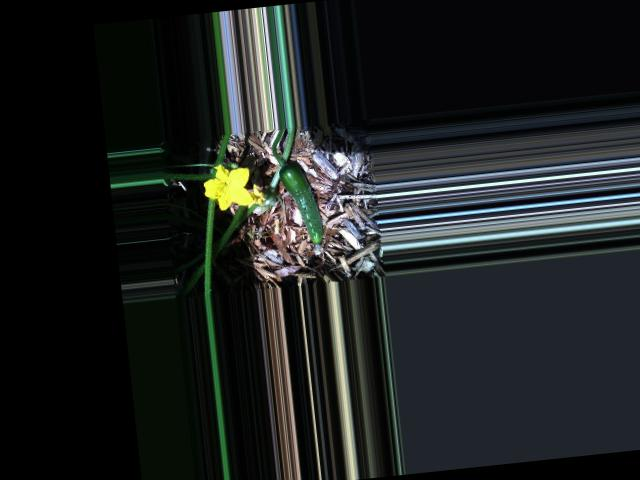cucumber: (277, 159, 326, 255)
